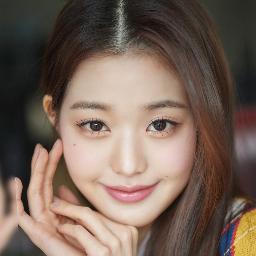face: (66, 59, 196, 223)
